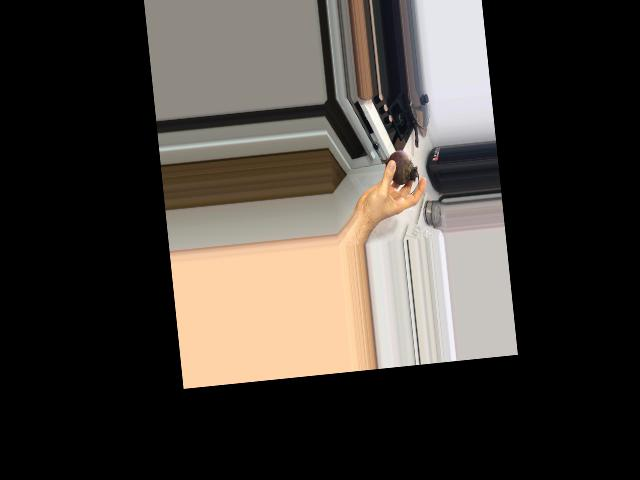beet: (378, 148, 420, 196)
